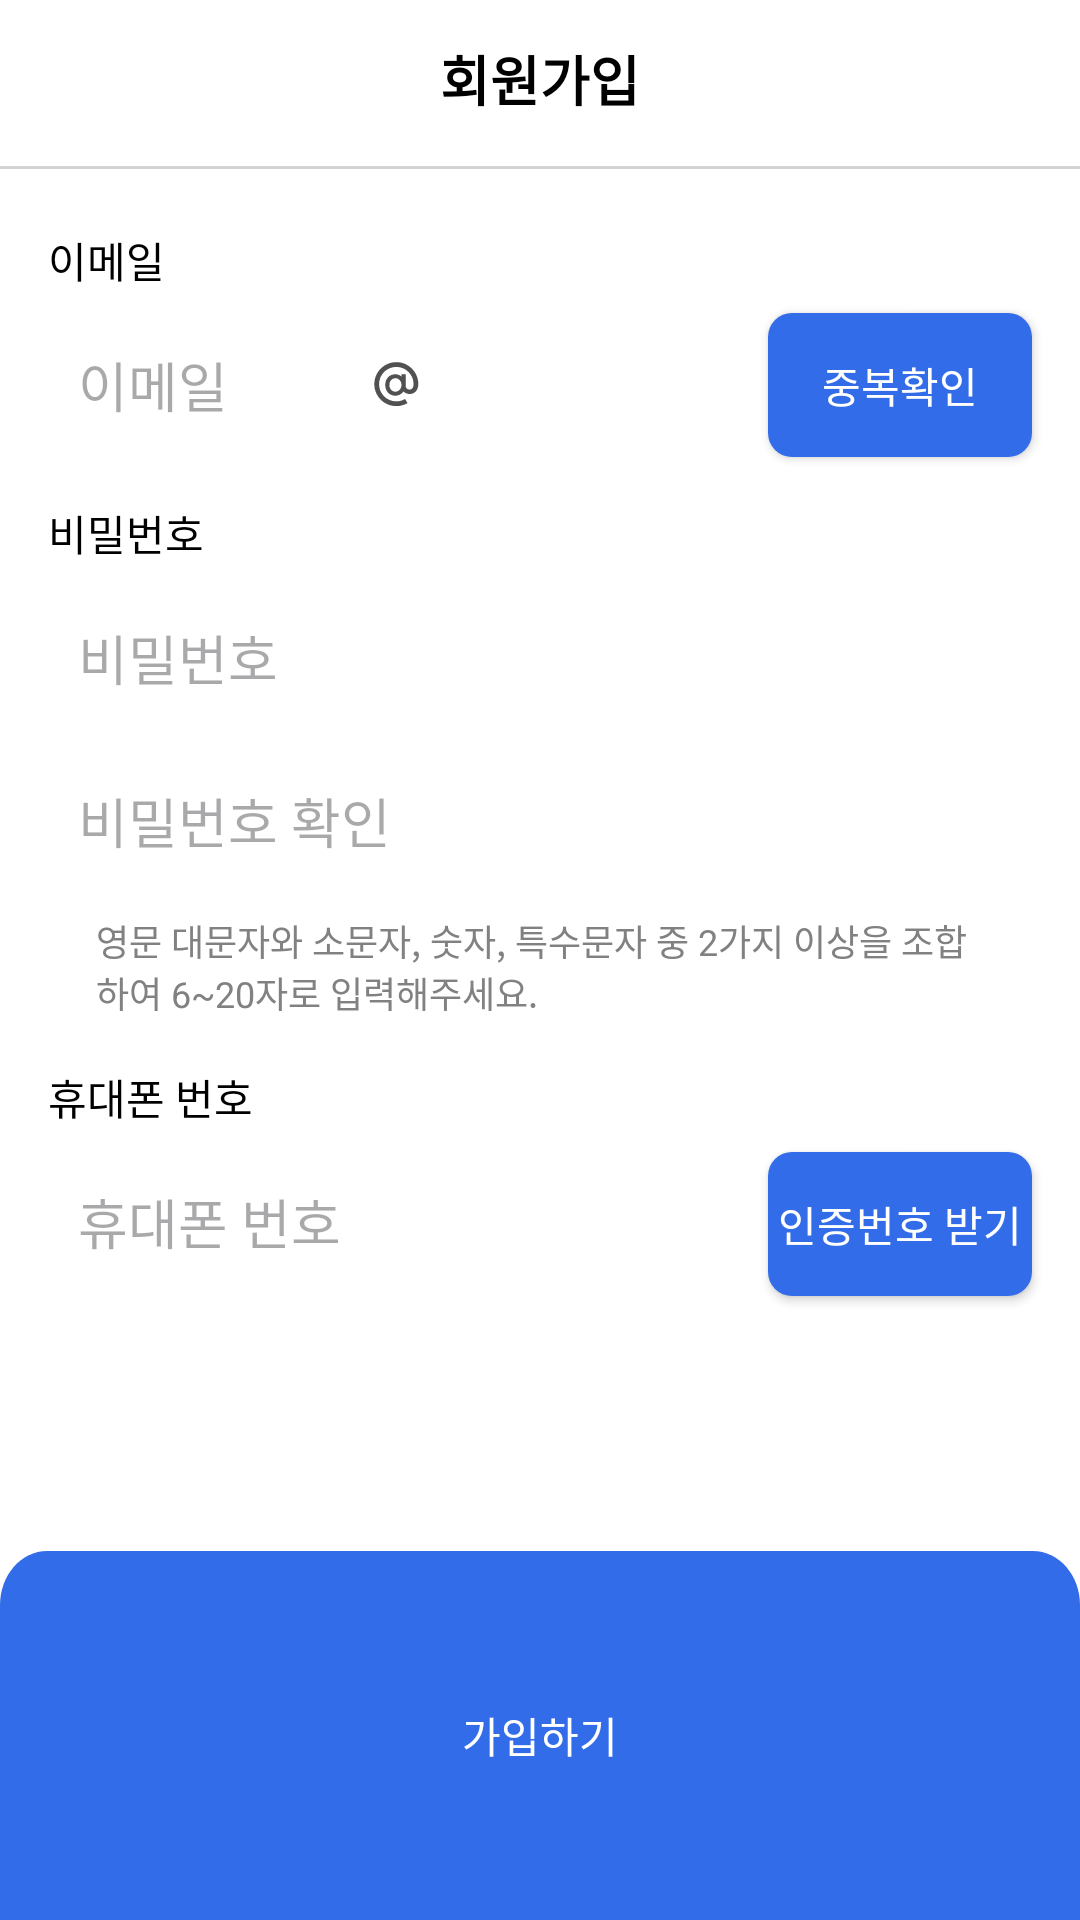

Where to tap for icons on this 1080px×1920px app screen, as [x,y]:
signup at: [396,384]
